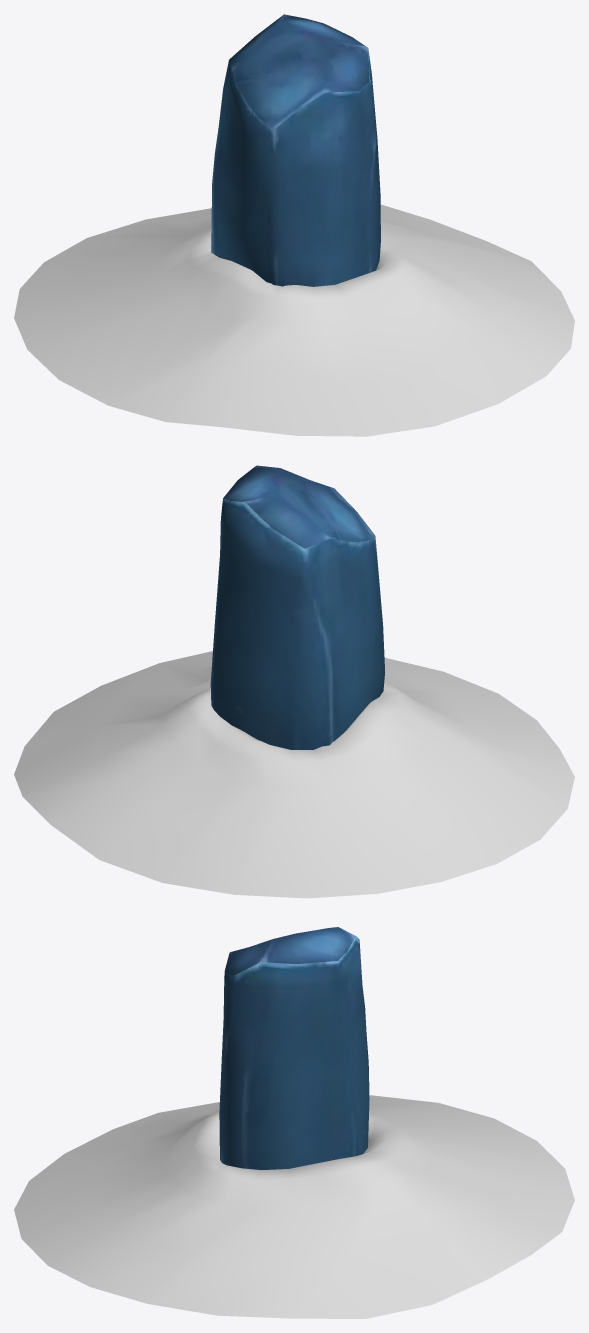
Rendered from crystal2c.glb.
The picture shows the model from 3 angles, top to bottom: view 1: azimuth 30°, elevation 25°; view 2: azimuth 150°, elevation 25°; view 3: azimuth 270°, elevation 25°; orthographic projection. The views are drawn at different scales.
Parts seen in each view (by area): view 1: crystalbase, crystal2c_LOD0; view 2: crystalbase, crystal2c_LOD0; view 3: crystalbase, crystal2c_LOD0.
Boxes of the visible parts, x1,y1,x2,y2 form: crystalbase: [14, 204, 574, 436]; crystal2c_LOD0: [211, 14, 380, 286]; crystalbase: [14, 651, 574, 898]; crystal2c_LOD0: [210, 465, 384, 749]; crystalbase: [14, 1095, 574, 1318]; crystal2c_LOD0: [219, 927, 369, 1169].
Size of the model in its own units: 2.81 by 1.63 by 2.9.
Materials: 2 (1 with a texture image).
